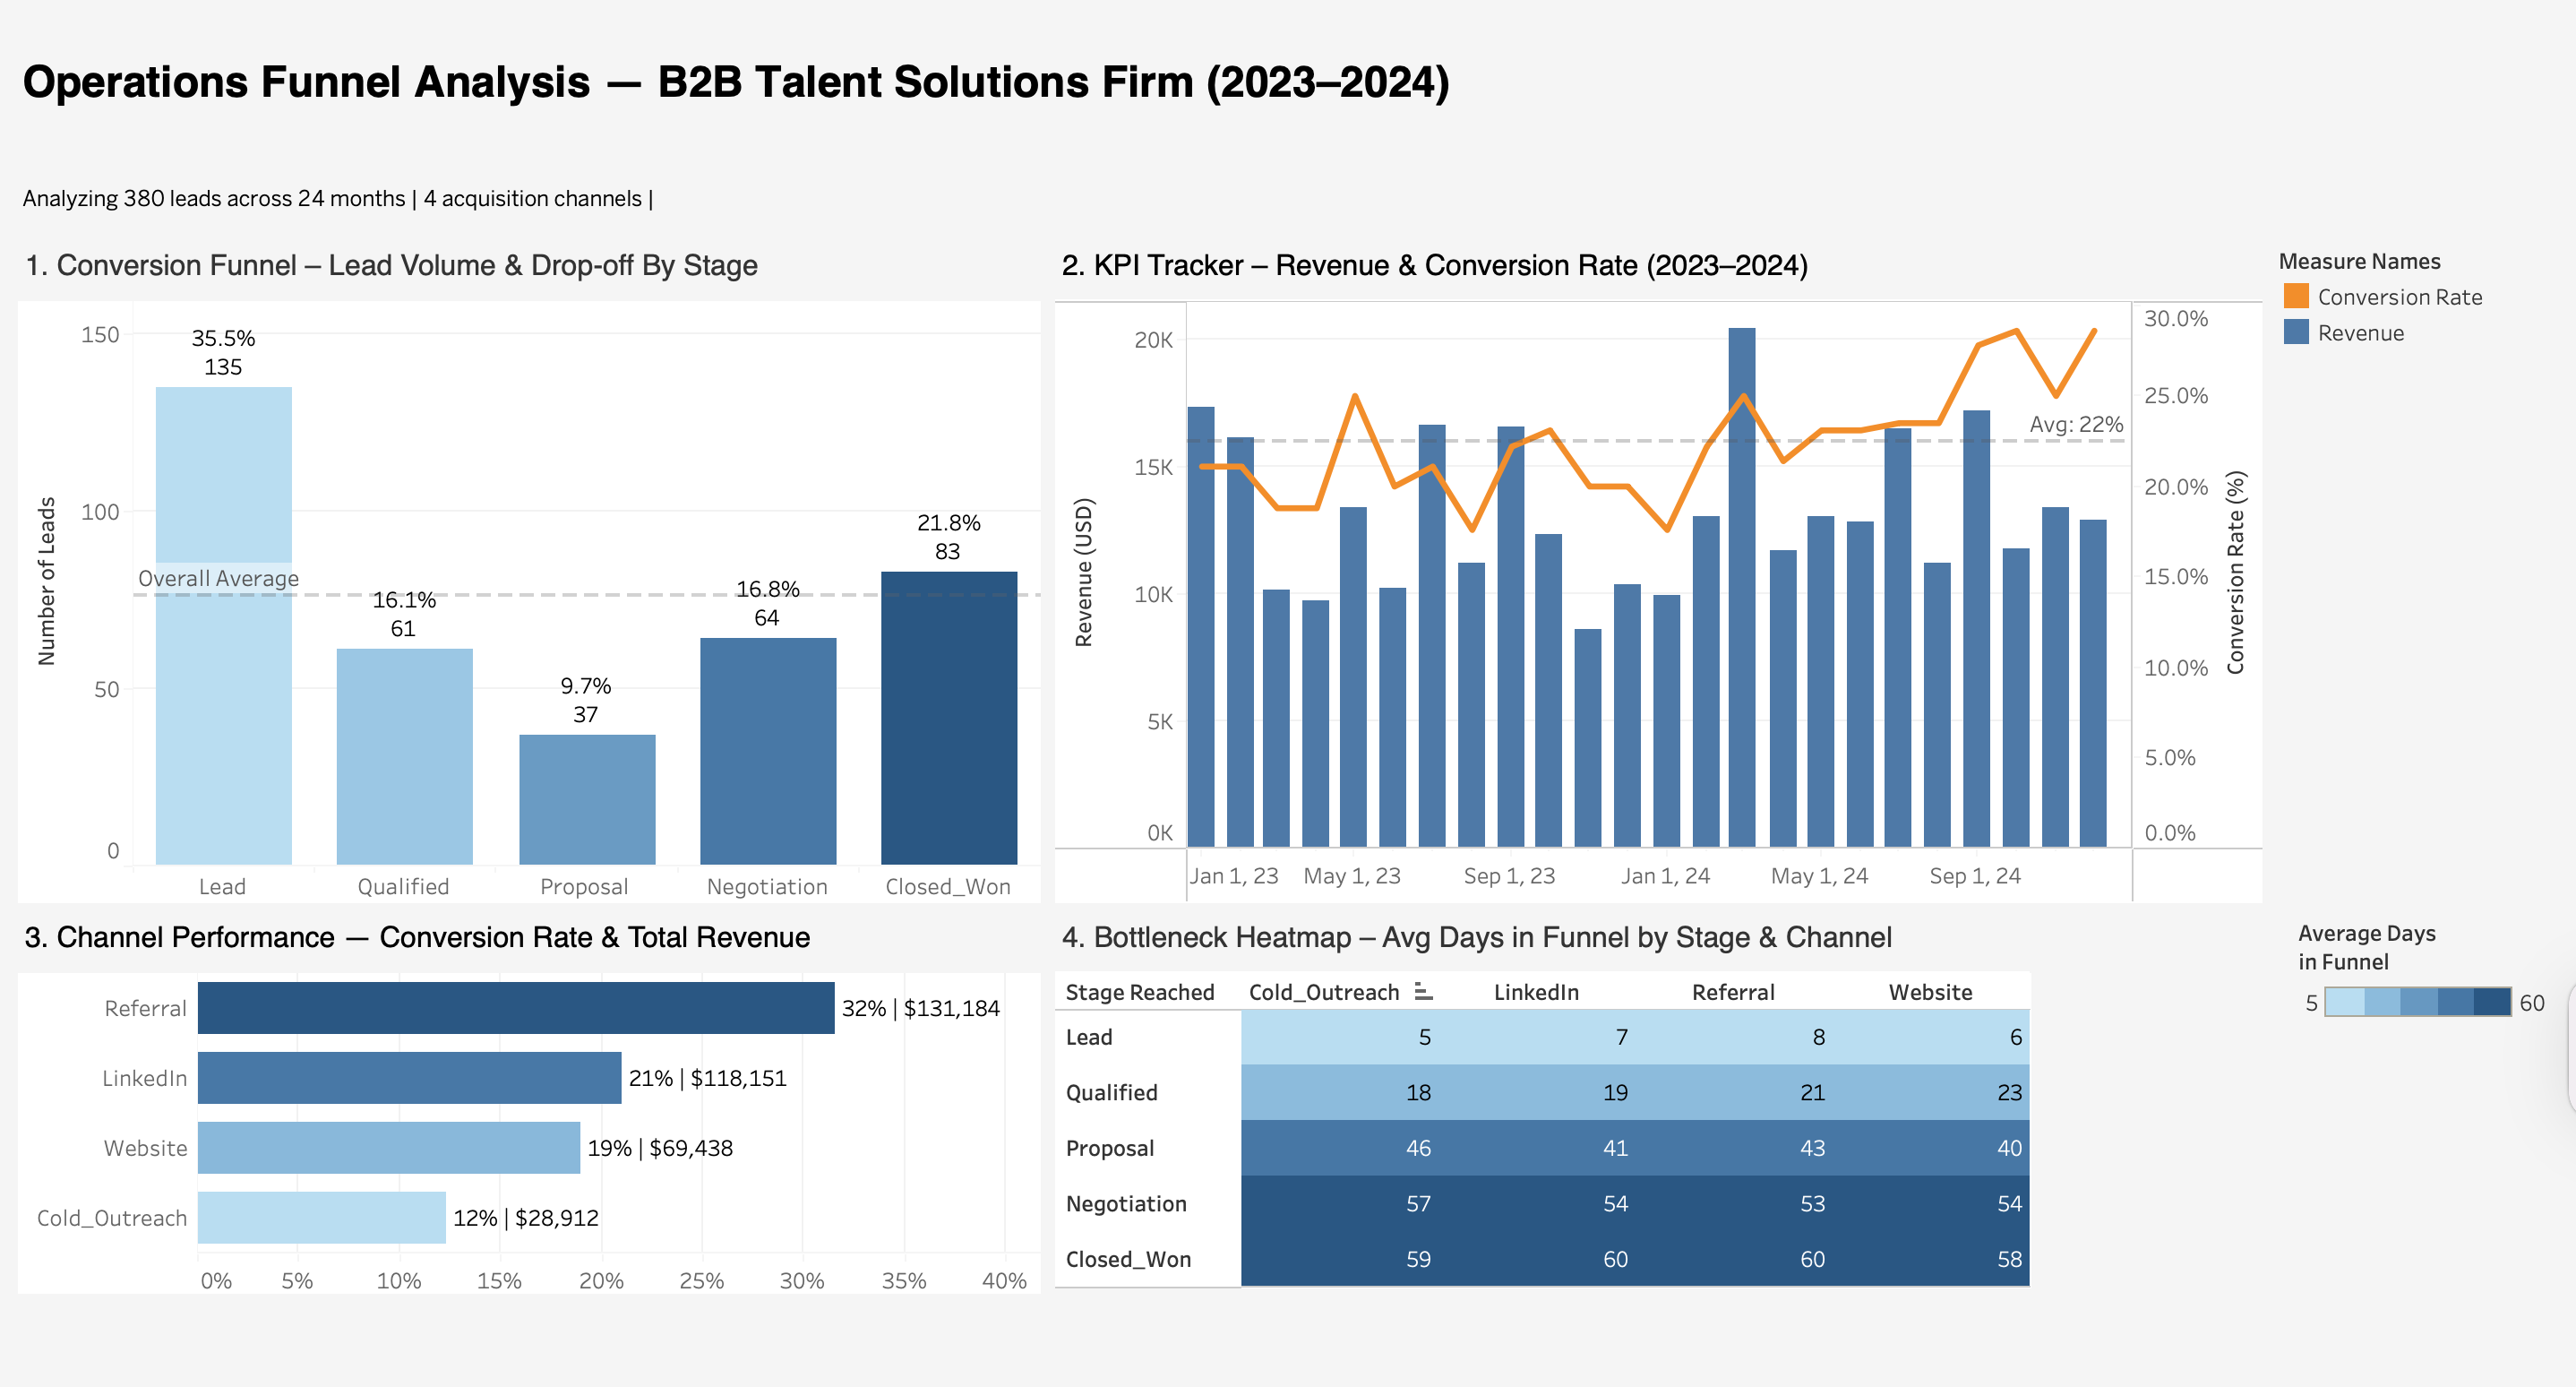

What the dashboard file says about the page in this screenshot:
{"tool":"tableau","page":{"name":"Operations Funnel Dashboard","canvas":[1000,1000],"units":"permille","ordinal":0},"visuals":[{"type":"text","box":[6.5,12.1,987,98]},{"type":"text","box":[6.5,110.1,915.4,52.8]},{"type":"worksheet","title":"Funnel Overview","mark":"Bar","rows":["lead_id"],"cols":["stage_reached"],"box":[6.5,162.9,401.1,448]},{"type":"worksheet","title":"KPI Tracker","mark":"Bar","rows":["revenue","conversion_rate"],"cols":["month"],"box":[407.6,162.9,473.6,448]},{"type":"legend","title":"KPI Tracker","param":"[federated.1cyrrgg0vej4zt1dh5iat14oq8jr].[:Measure Names]","box":[881.2,162.9,112.3,99.5]},{"type":"worksheet","title":"Channel Performance","mark":"Bar","rows":["channel"],"cols":["Calculation_2522758120419329"],"box":[6.5,610.8,401.1,377.1]},{"type":"worksheet","title":"Bottleneck Heatmap","mark":"Square","rows":["stage_reached"],"cols":["channel"],"box":[407.6,610.8,481,324.3]},{"type":"legend","title":"Bottleneck Heatmap","param":"[federated.0cv3a7u1p3lh9w1b4u1pp10ijd2a].[avg:days_in_funnel:qk]","box":[888.6,610.8,104.9,123.7]}]}

Visuals, with their boxes on the dashboard's canvas, which has no fixed pixel size, in thousandths of its width and height (x1, y1, x2, y2). These are canvas units, not pixel positions in the 2576x1387 screenshot, which may show the page scaled, cropped or inside an application window:
text: box=[6, 12, 994, 110]
text: box=[6, 110, 922, 163]
"Funnel Overview" worksheet (Bar marks): box=[6, 163, 408, 611]
"KPI Tracker" worksheet (Bar marks): box=[408, 163, 881, 611]
"KPI Tracker" legend: box=[881, 163, 994, 262]
"Channel Performance" worksheet (Bar marks): box=[6, 611, 408, 988]
"Bottleneck Heatmap" worksheet (Square marks): box=[408, 611, 889, 935]
"Bottleneck Heatmap" legend: box=[889, 611, 994, 734]
